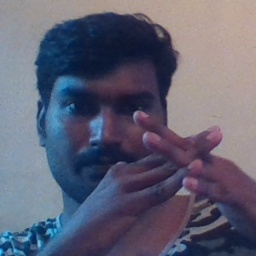W: (107, 98, 248, 221)
